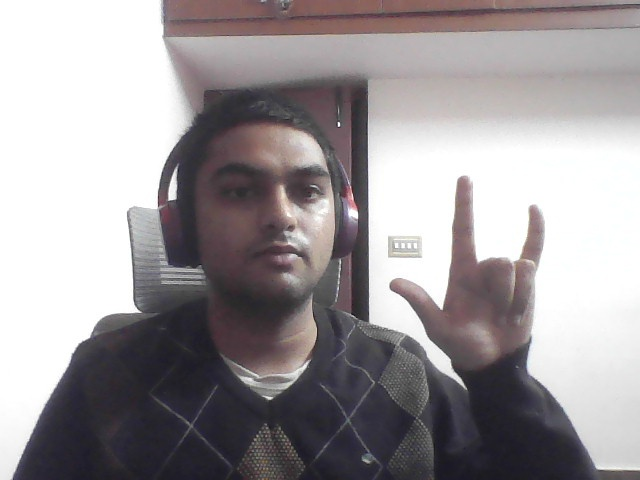I Love You: (380, 159, 574, 397)
